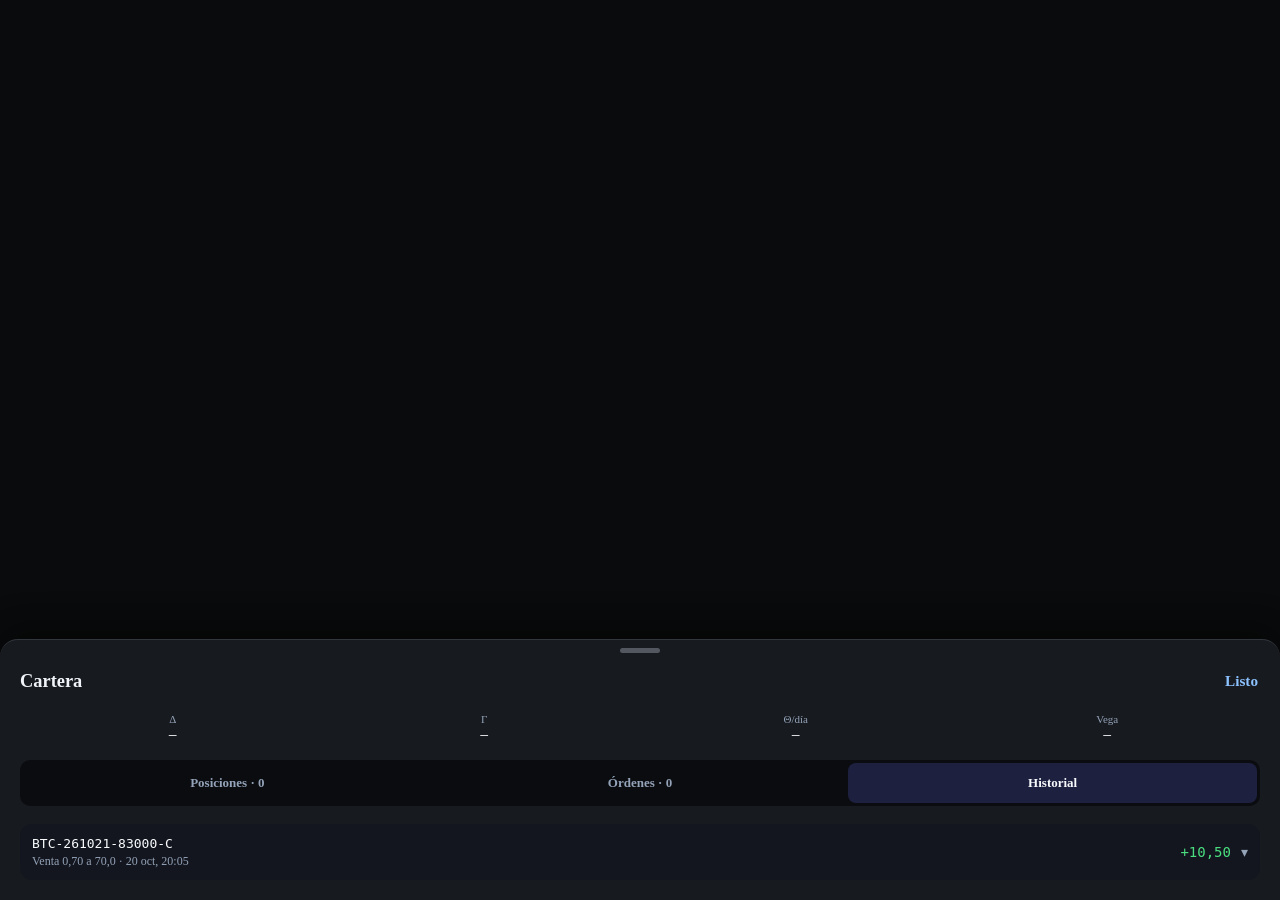
Test: historial móvil desplegable › oculta el detalle hasta tocar la ejecución y luego muestra comisión y prima total
The width and height of the screenshot is (1280, 900).
expect the text "Comisión" is not shown: met
Step 1. Click the button that starts with "BTC-261021-83000-C" → (102, 843), box [20,824,1260,880]
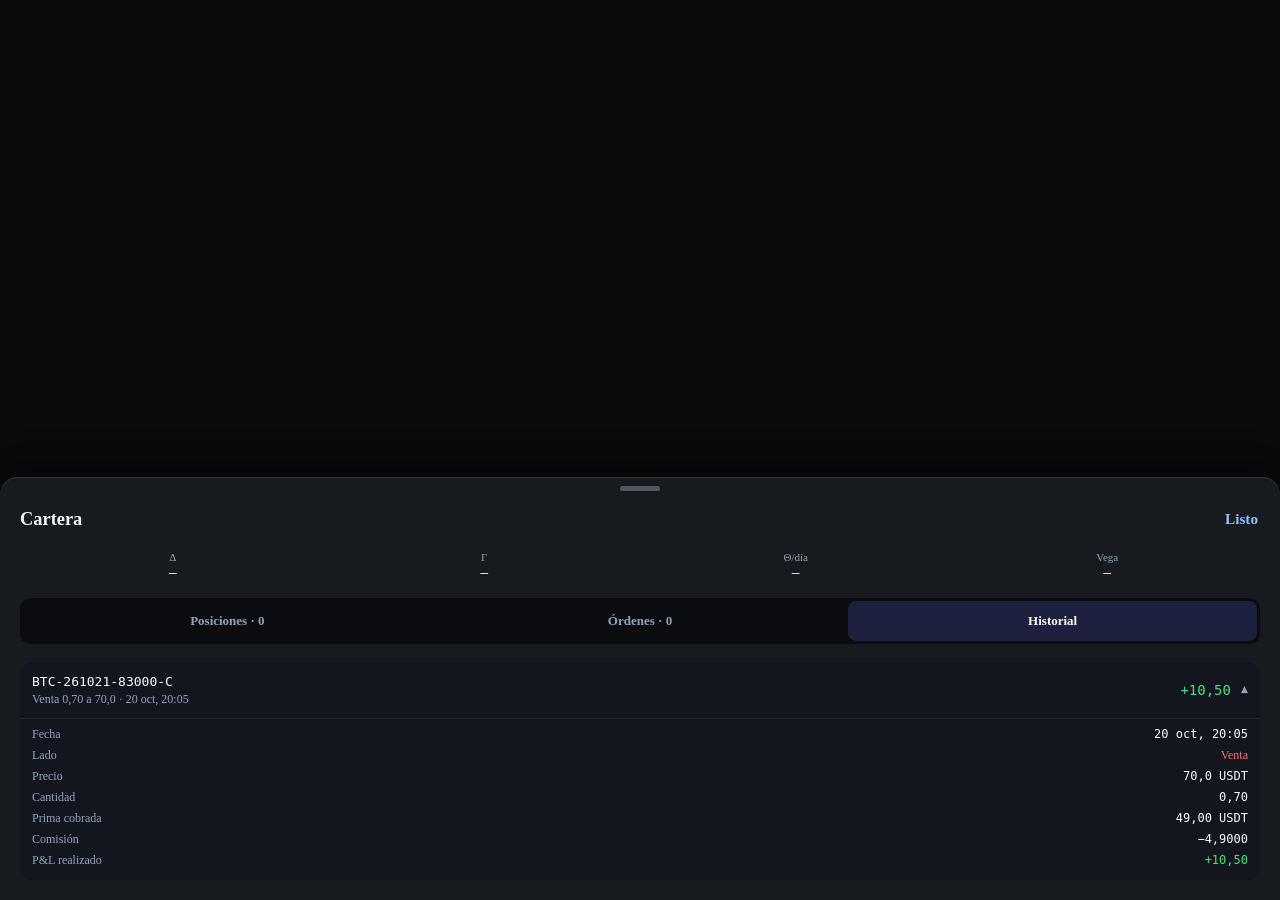
expect the button that starts with "BTC-261021-83000-C" is expanded: met
expect the text "Comisión" is shown: met, box [32,832,79,846]
expect the text "−4,9000" is shown: met, box [1197,832,1248,846]
Step 2. Click the button that starts with "BTC-261021-83000-C" → (102, 681), box [20,662,1260,718]
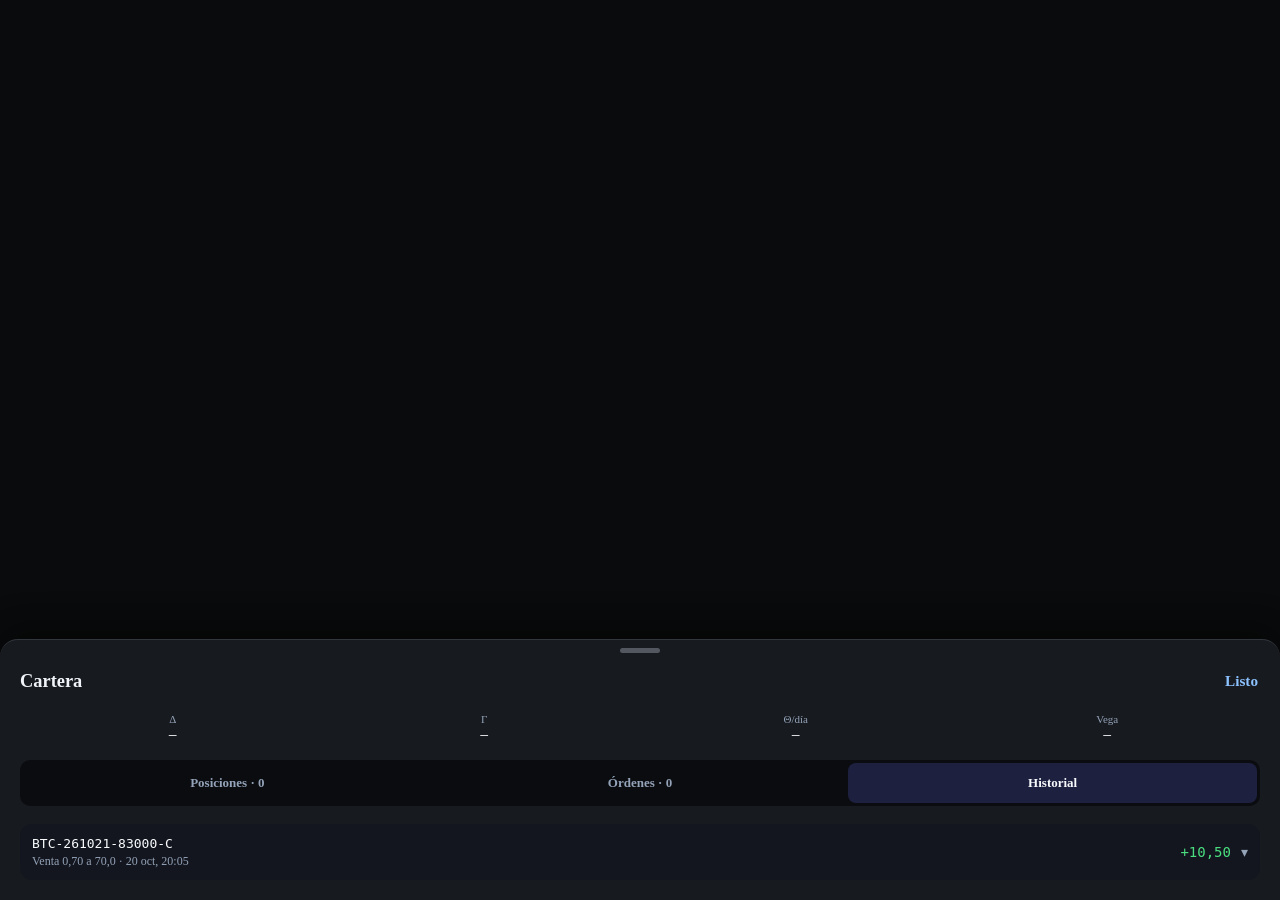
expect the text "Comisión" is gone: met
